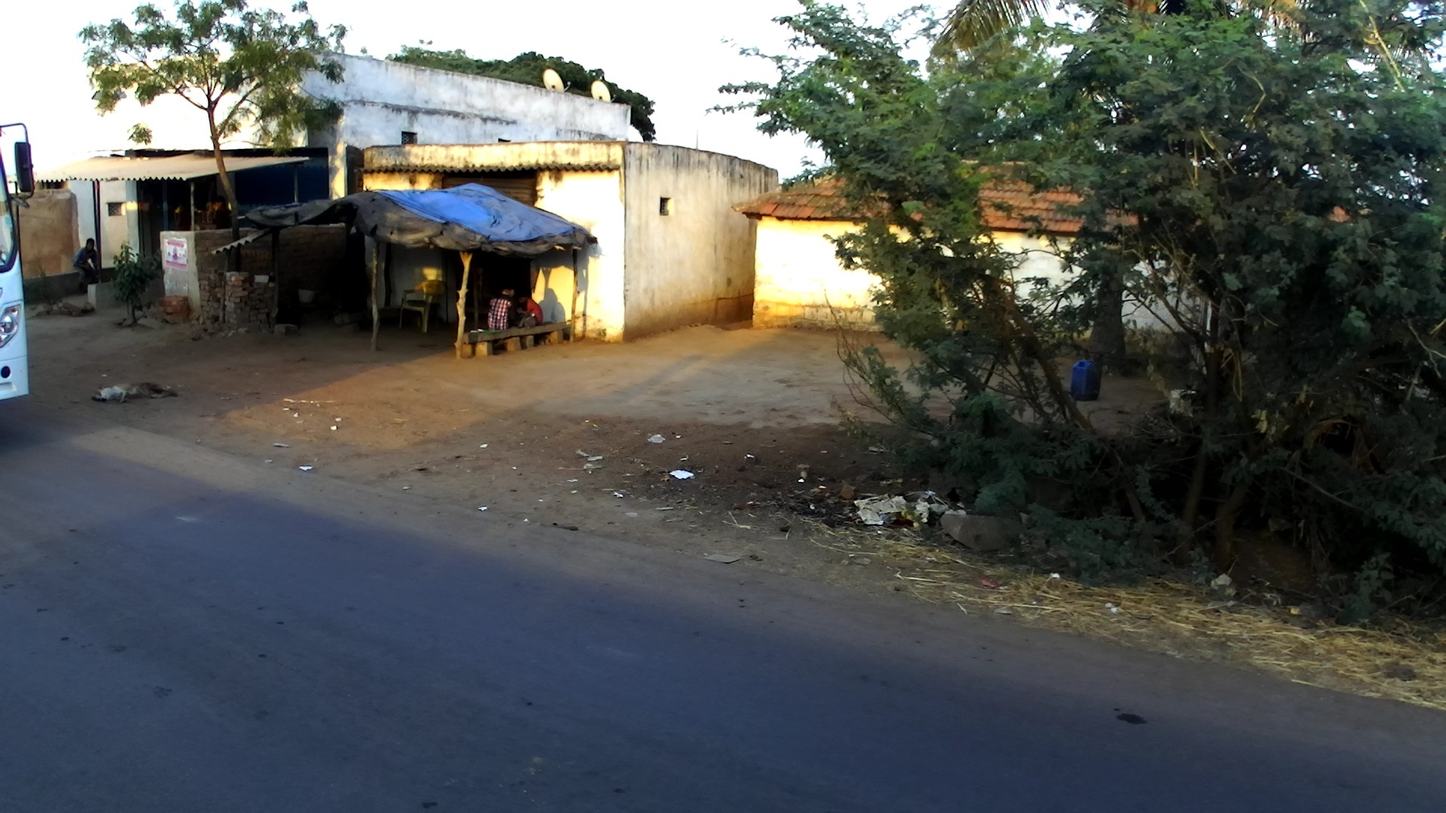bus: (1, 117, 38, 407)
person: (69, 235, 105, 298), (483, 288, 511, 336), (514, 293, 545, 333)
